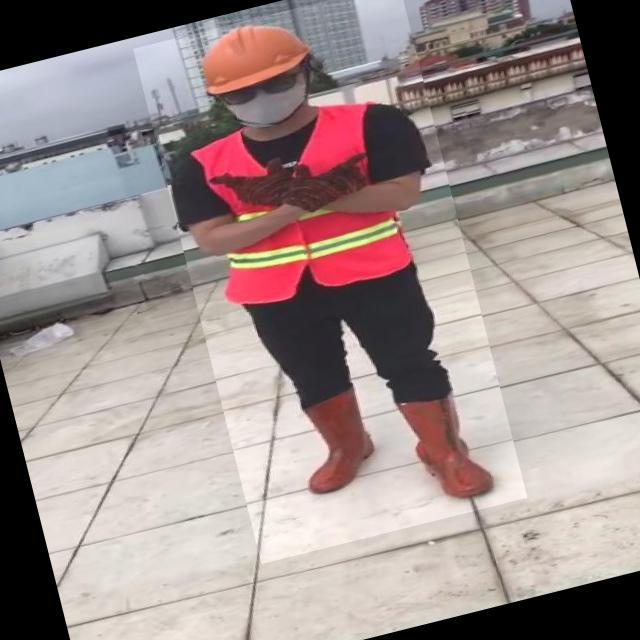Gloves: (214, 158, 296, 220), (296, 157, 371, 210)
Helmet: (132, 0, 527, 564), (189, 12, 316, 98)
Safety Boot: (396, 385, 495, 510), (286, 389, 388, 497)
Safety Vest: (188, 98, 416, 318)
